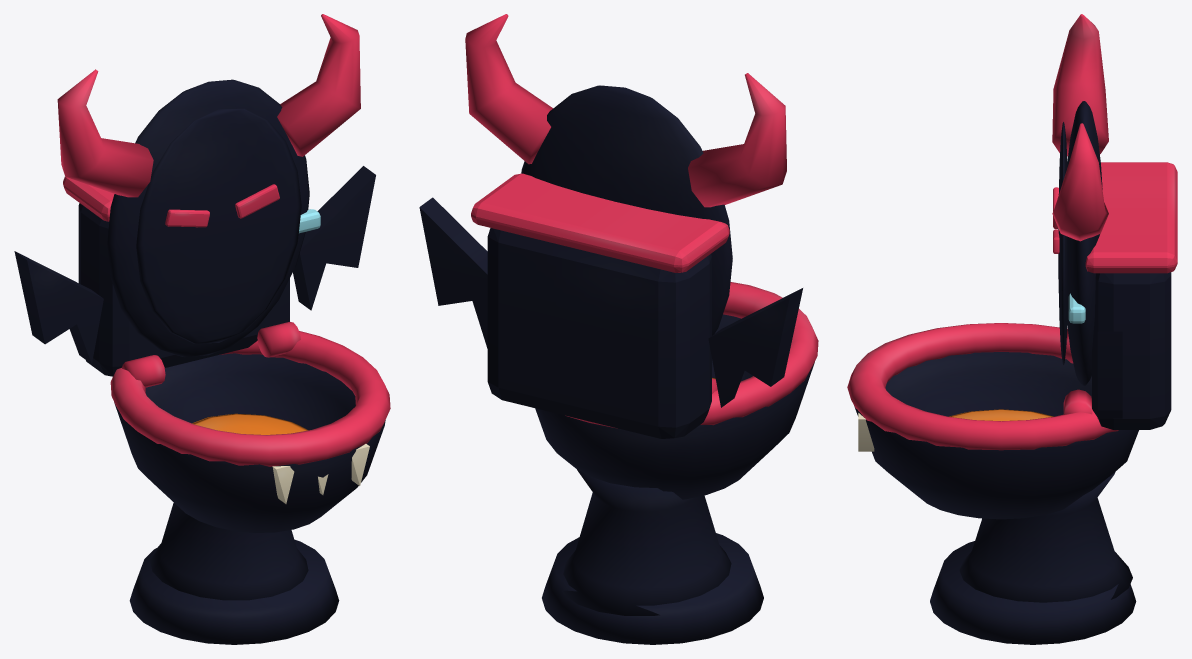
Rendered from DemonToilet.fbx.
The picture shows the model from 3 angles, left to right: view 1: azimuth 30°, elevation 25°; view 2: azimuth 150°, elevation 25°; view 3: azimuth 270°, elevation 25°; orthographic projection. The views are drawn at different scales.
Parts seen in each view (by area): view 1: DemonToilet; view 2: DemonToilet; view 3: DemonToilet.
Part boxes in pixels (x1,y1,x2,y2): DemonToilet: (14,14,390,644); DemonToilet: (419,14,818,644); DemonToilet: (847,14,1177,644).
Size of the model in its own units: 3.5 by 5.18 by 2.91.
1 material, 1 textured.
